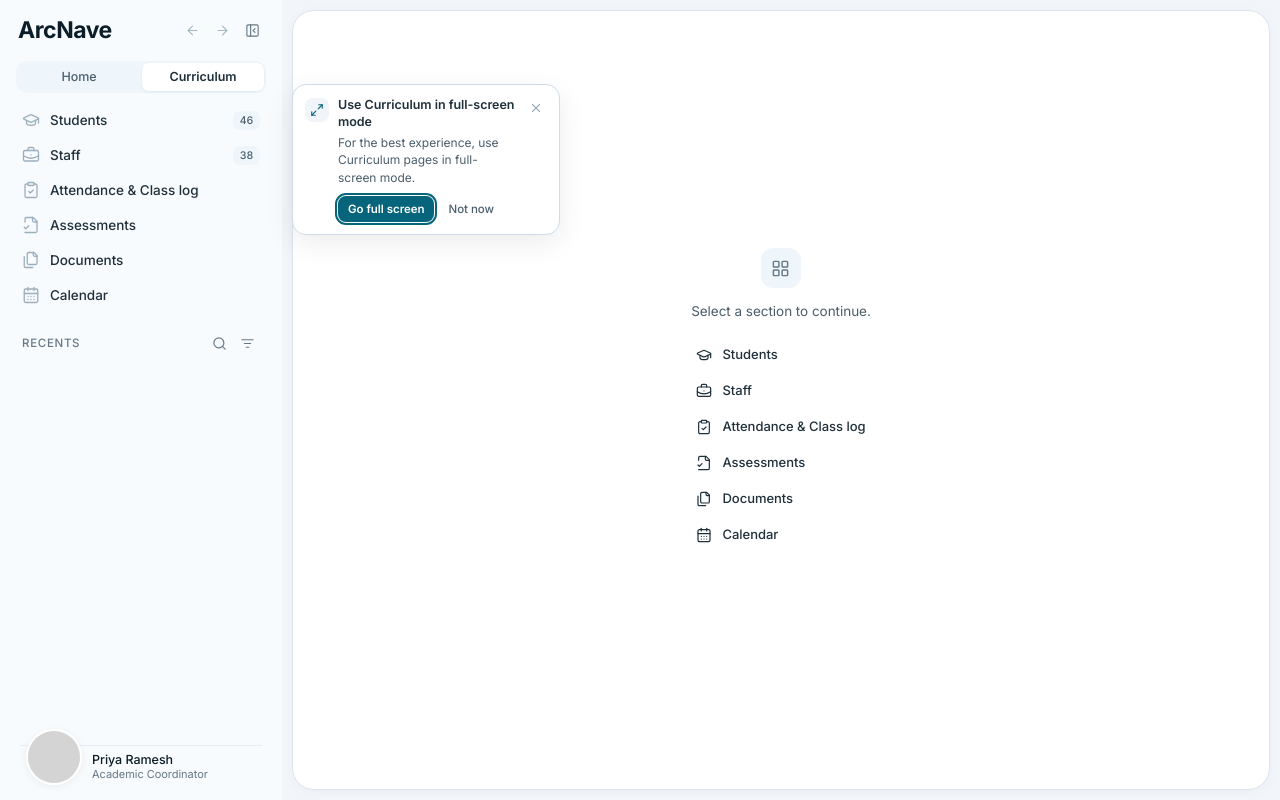
Test: Institution setup — placement and non-regression › does not reach the Staff, Class Tutor or Head of Department workspaces
The image size is (1280, 800).
Check: the element "operational readiness" is not shown
Click the button with aria-label "open profile".
click(141, 767)  # box [20,746,262,788]
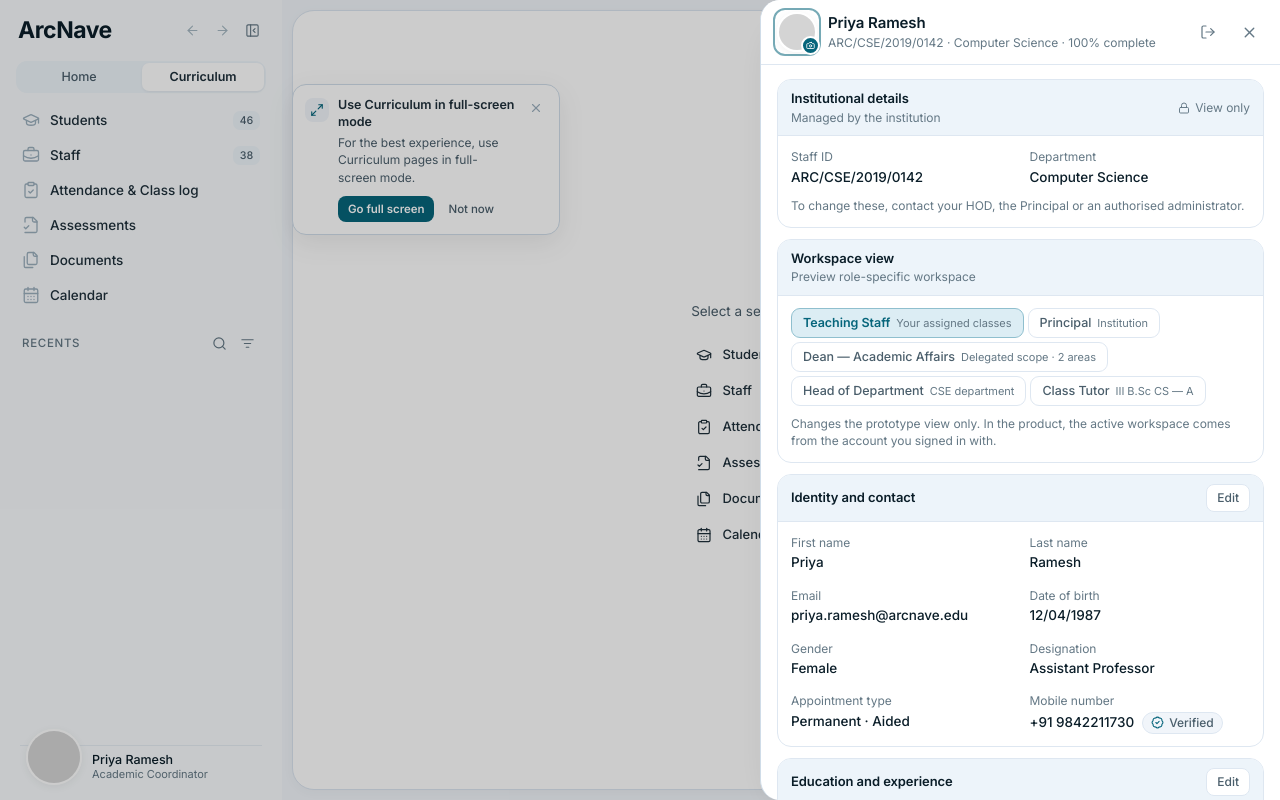
Click the radio button labelled "Principal".
click(1094, 323)  # box [1028,308,1160,338]
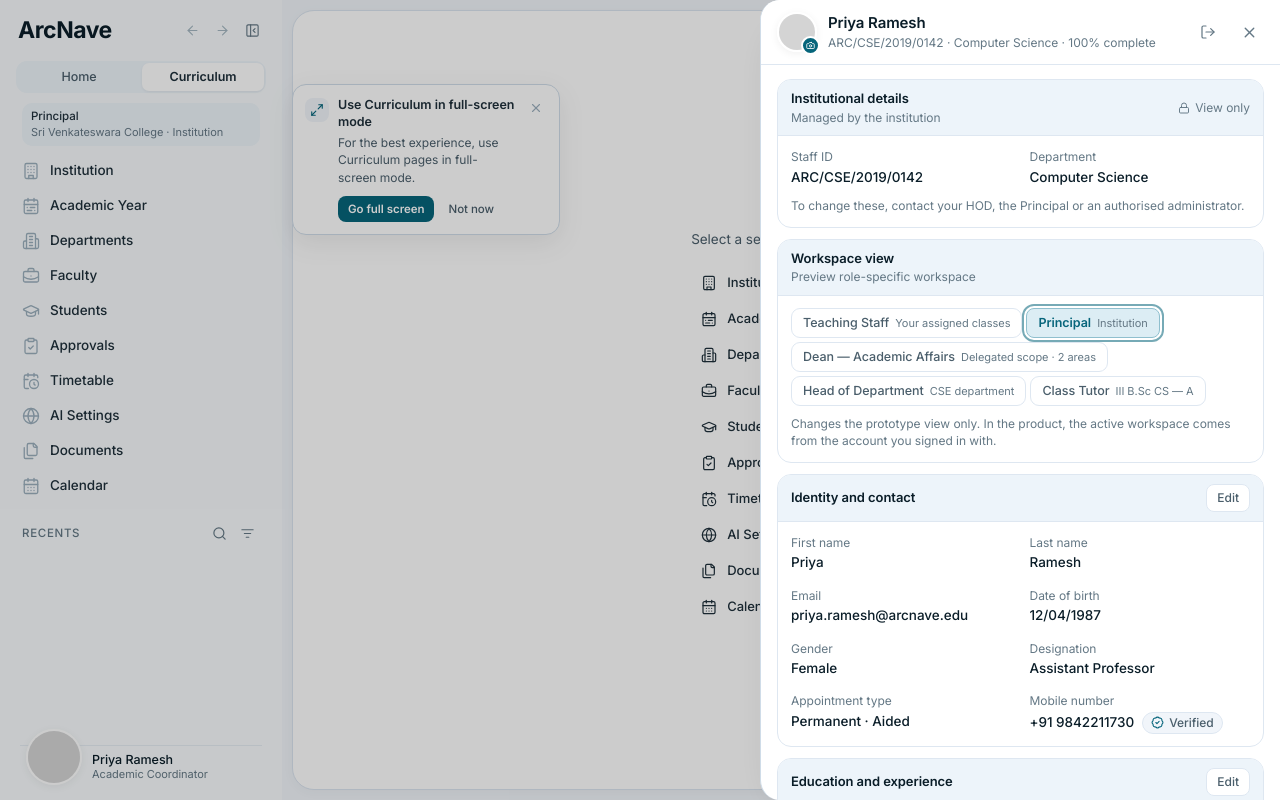
Click the button named "close profile".
click(1249, 32)  # box [1234,17,1264,47]
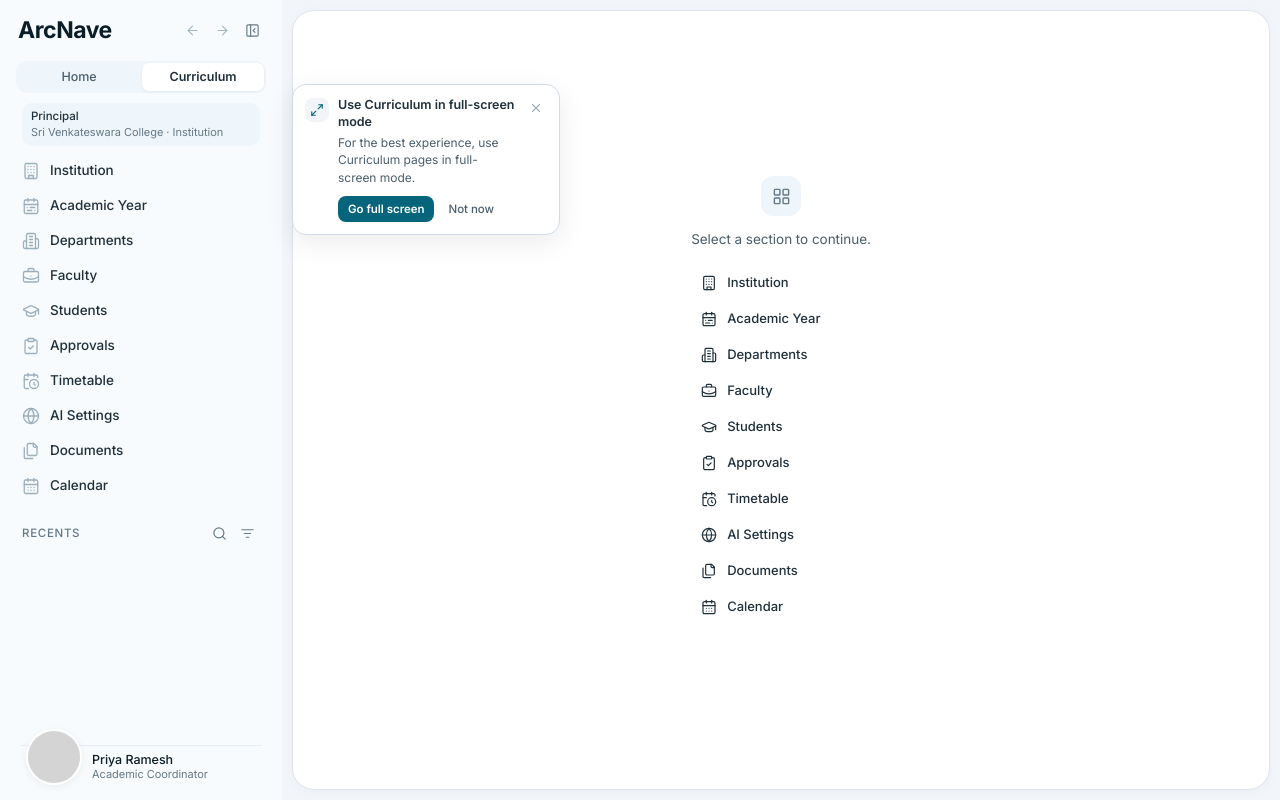
Click the link "Institution" below "Sri Venkateswara College".
click(68, 171)  # box [22,162,114,180]
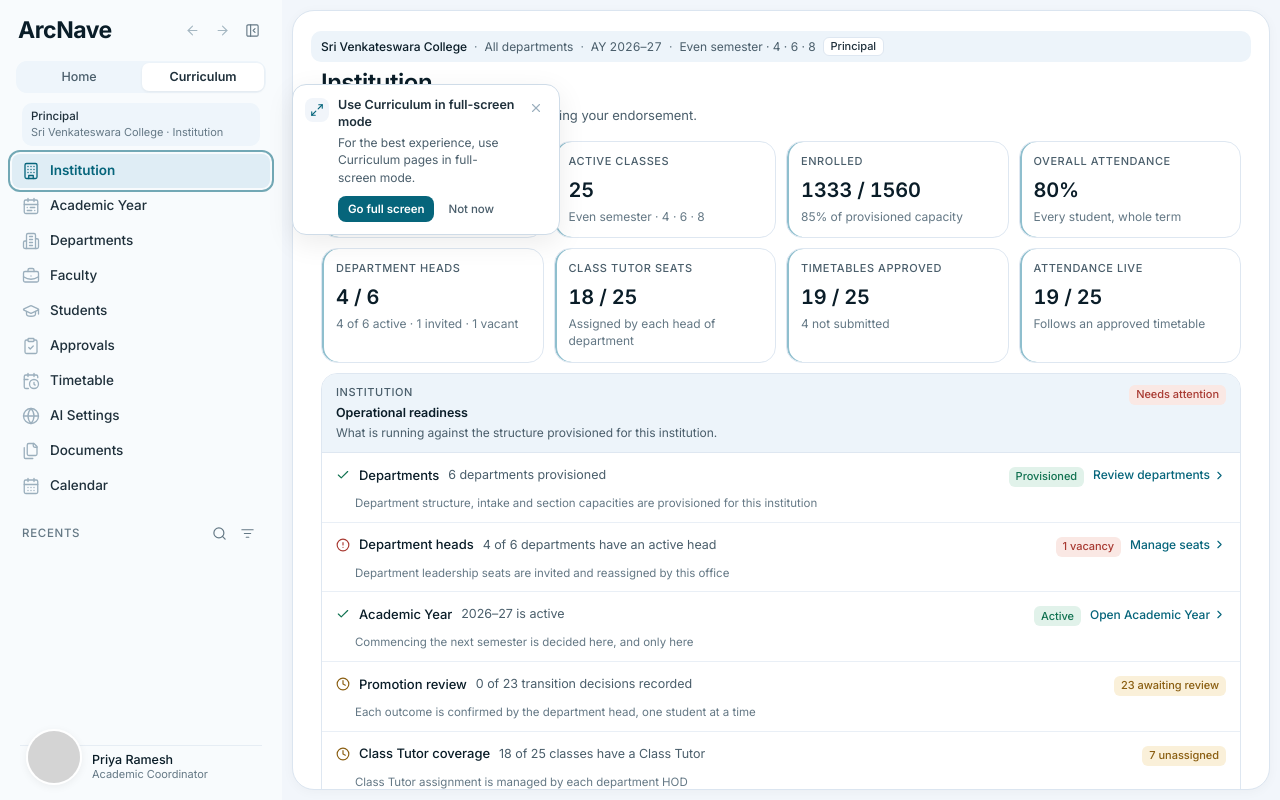
Check: the element "Operational readiness" is shown, box [321,373,1241,789]
Click the link "Departments".
click(78, 241)  # box [22,232,133,250]
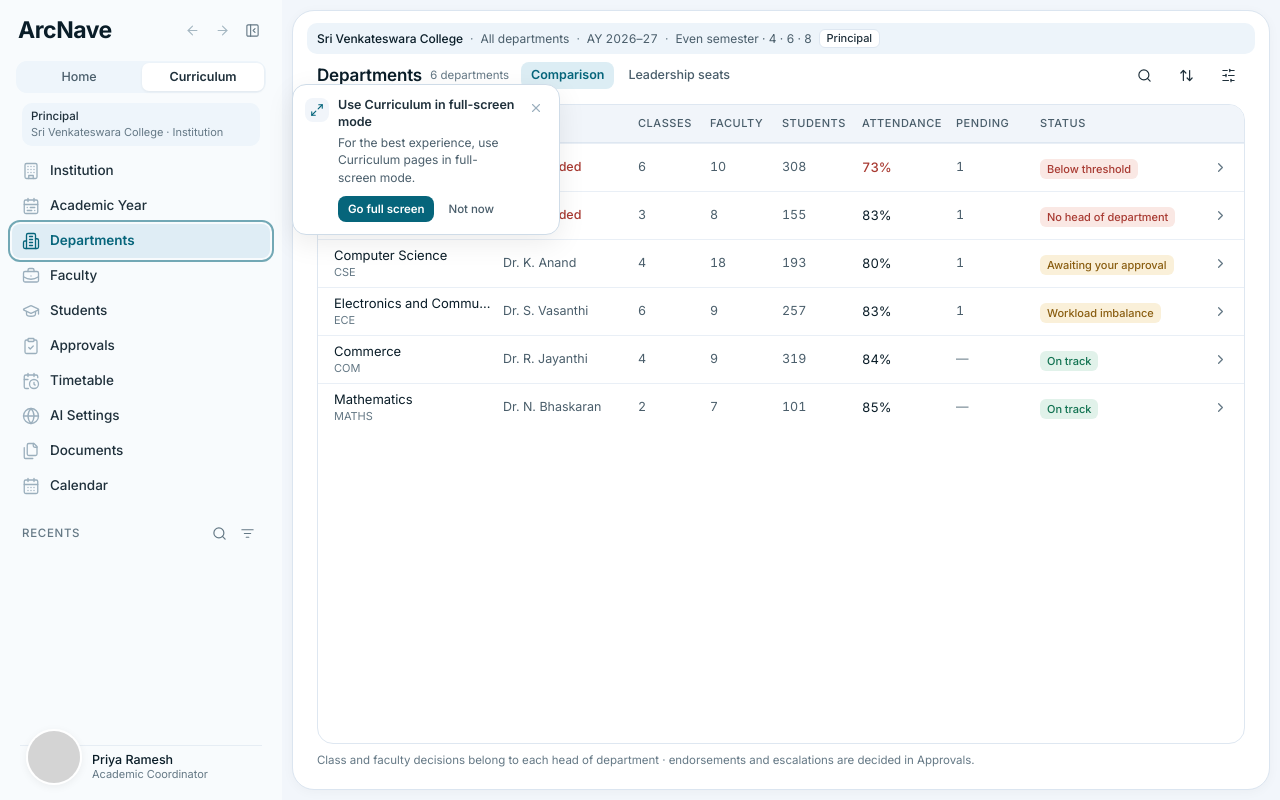
Check: the heading "Operational readiness" is gone
